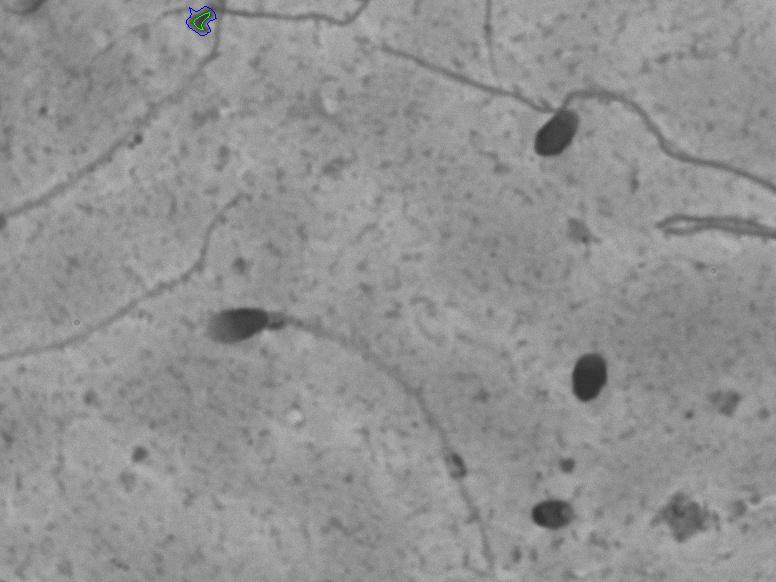Abnormal: (191, 274, 489, 553), (499, 69, 743, 230)
